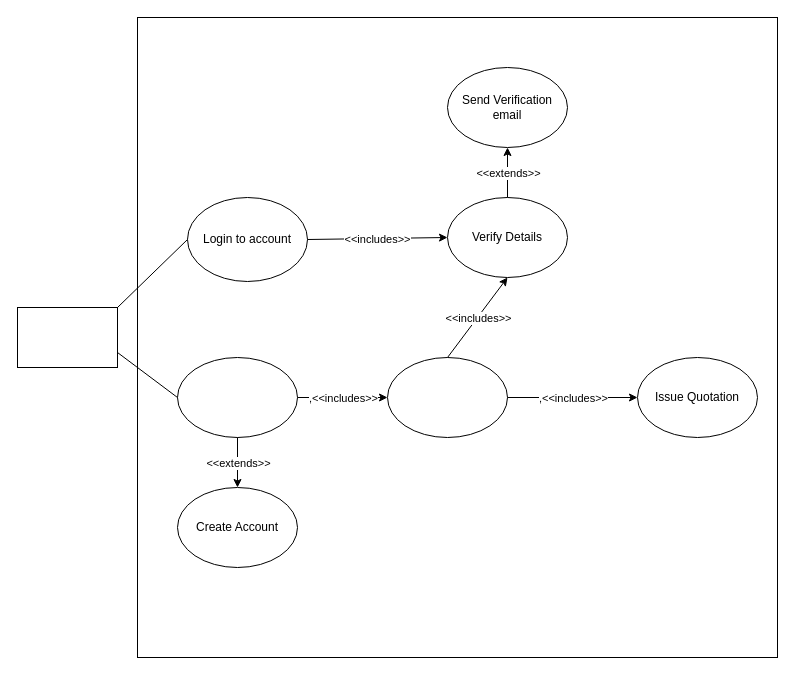
Some shapes in this 795 by 675 pixel diagram are drawn without their labels. Each missing label, with the centre of its shape:
"<<actor>> Customer" belongs at (67,337).
"Insert details" belongs at (447,397).
"New Quote" belongs at (237,397).
